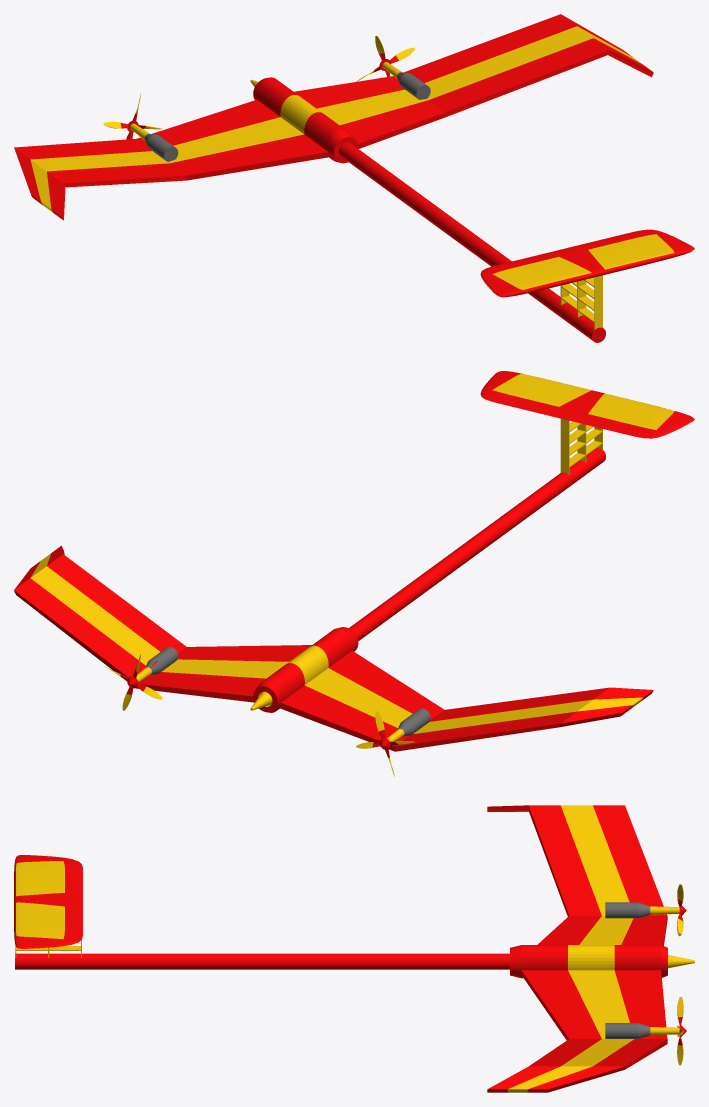
Rendered from copfason.fbx.
3 renders of one model, top to bottom at view 1: azimuth 30°, elevation 25°; view 2: azimuth 150°, elevation 25°; view 3: azimuth 270°, elevation 25°, orthographic. The views are drawn at different scales.
Parts seen in each view (by area): view 1: Cylinder.004, Cylinder.007, Cylinder.006, Cylinder.005; view 2: Cylinder.004, Cylinder.007, Cylinder.006, Cylinder.005; view 3: Cylinder.004, Cylinder.007, Cylinder.006, Cylinder.005.
Boxes of the visible parts, <box> form: Cylinder.004: <box>14,14,653,220</box>; Cylinder.007: <box>339,142,694,342</box>; Cylinder.006: <box>356,36,430,99</box>; Cylinder.005: <box>103,93,178,161</box>; Cylinder.004: <box>14,545,653,751</box>; Cylinder.007: <box>349,371,694,640</box>; Cylinder.006: <box>104,646,178,710</box>; Cylinder.005: <box>356,708,430,776</box>; Cylinder.004: <box>487,805,694,1092</box>; Cylinder.007: <box>14,855,509,969</box>; Cylinder.006: <box>605,997,686,1065</box>; Cylinder.005: <box>605,884,686,936</box>.
Size of the model in its own units: 1978 by 332 by 2013.
